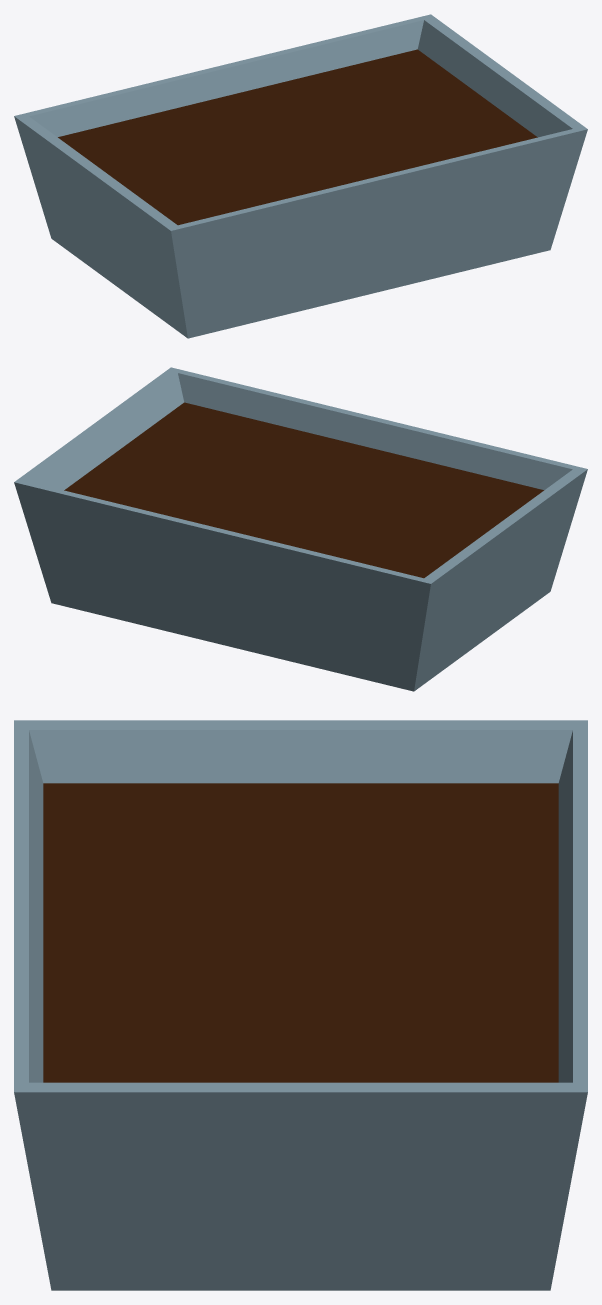
Rendered from smartForm_Pot.fbx.
The picture shows the model from 3 angles, top to bottom: view 1: azimuth 30°, elevation 25°; view 2: azimuth 150°, elevation 25°; view 3: azimuth 270°, elevation 25°; orthographic projection. The views are drawn at different scales.
Visible parts, largest first — view 1: Cube.002, Plane; view 2: Cube.002, Plane; view 3: Cube.002, Plane.
Part boxes in pixels (x1,y1,x2,y2): Cube.002: (14,14,587,338); Plane: (58,49,537,225); Cube.002: (14,367,587,691); Plane: (64,402,543,578); Cube.002: (14,720,587,1290); Plane: (43,783,558,1082).
Size of the model in its own units: 133 by 37.22 by 86.99.
